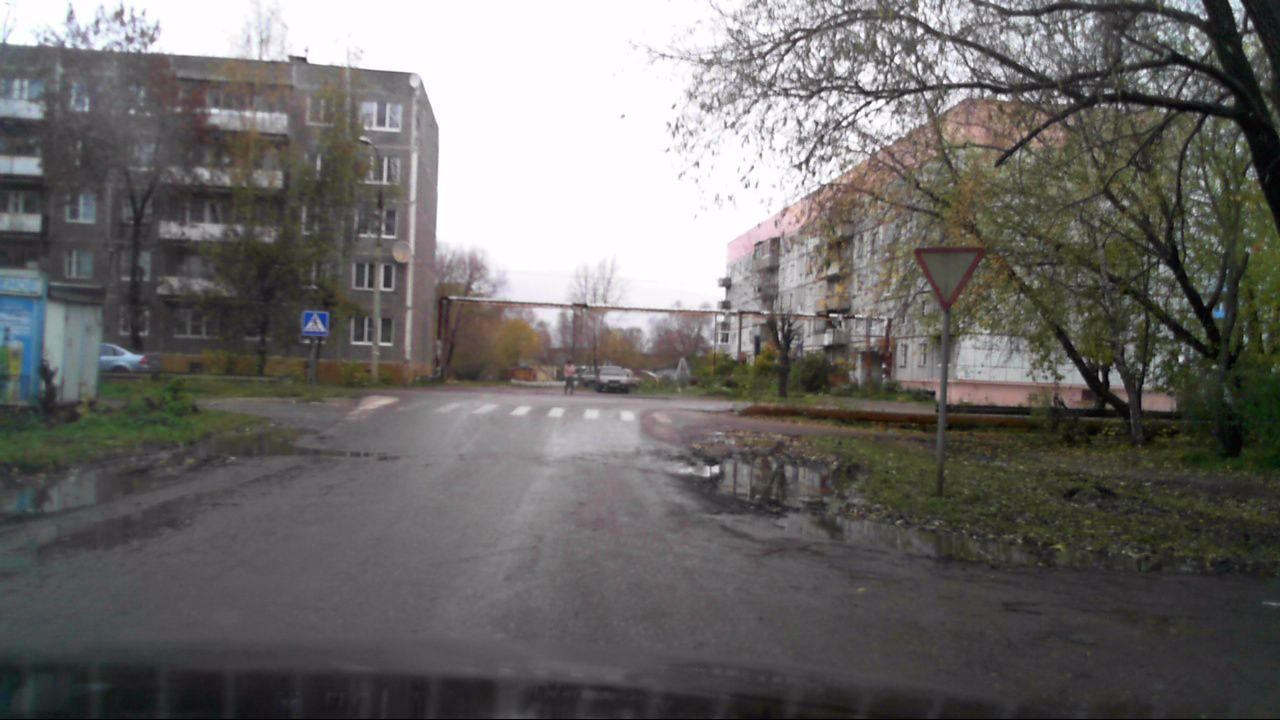2_4: (910, 246, 983, 311)
5_19_2: (303, 307, 327, 337)
